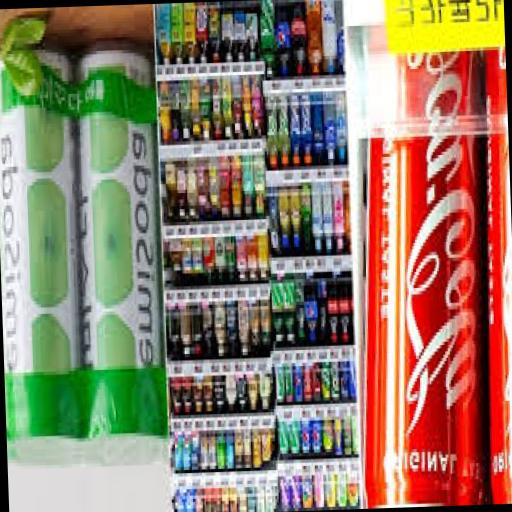Coca: (343, 7, 512, 508)
